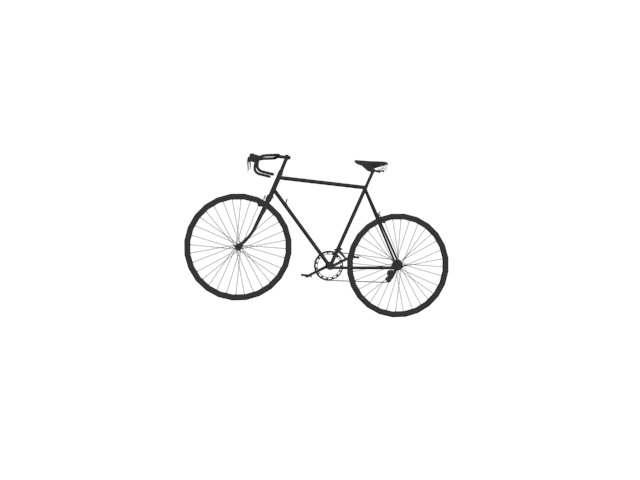bike: (185, 153, 456, 320)
